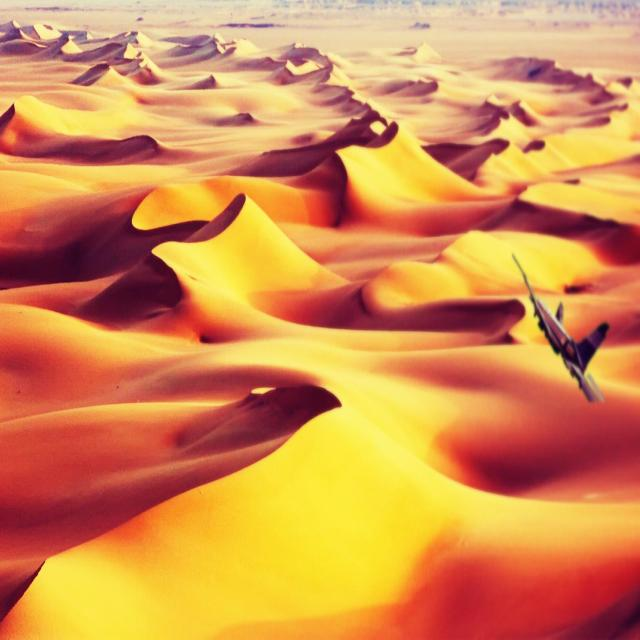airplane: (511, 251, 610, 403)
